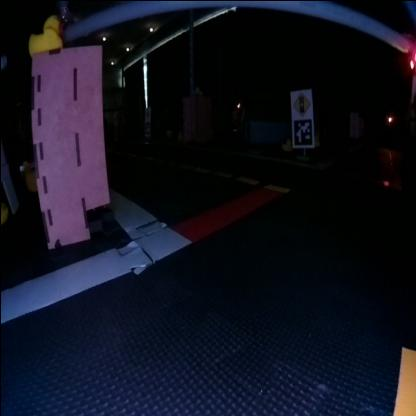Duckie: (27, 14, 61, 52), (281, 138, 290, 150)
QR code: (292, 118, 312, 146)
Signal sign: (292, 90, 310, 115)
Traffic light: (407, 44, 414, 70)
